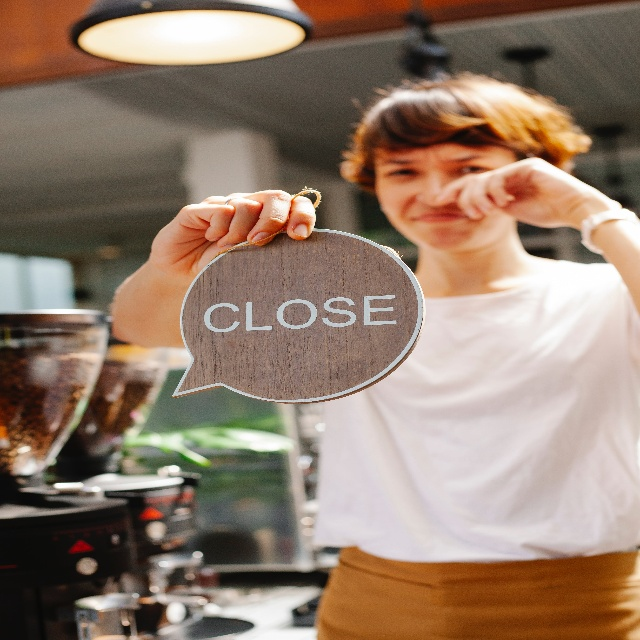Sin_guantes: (148, 190, 316, 282), (434, 157, 590, 229)
